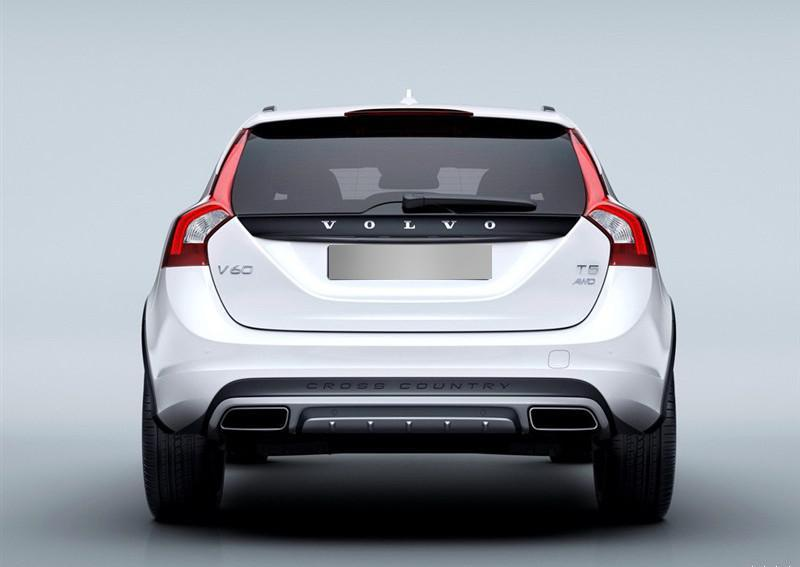Wagon: (137, 85, 683, 532)
